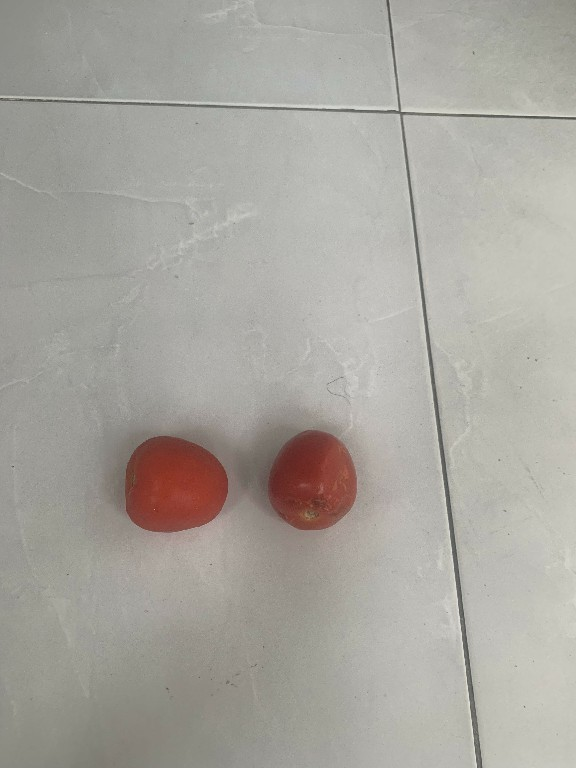NG: (258, 422, 359, 538)
OK: (115, 429, 226, 541)
